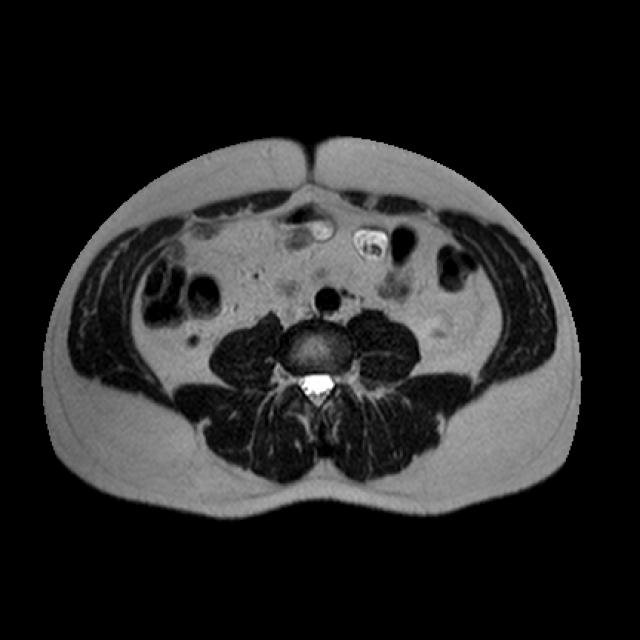sol: (423, 309, 453, 335)
